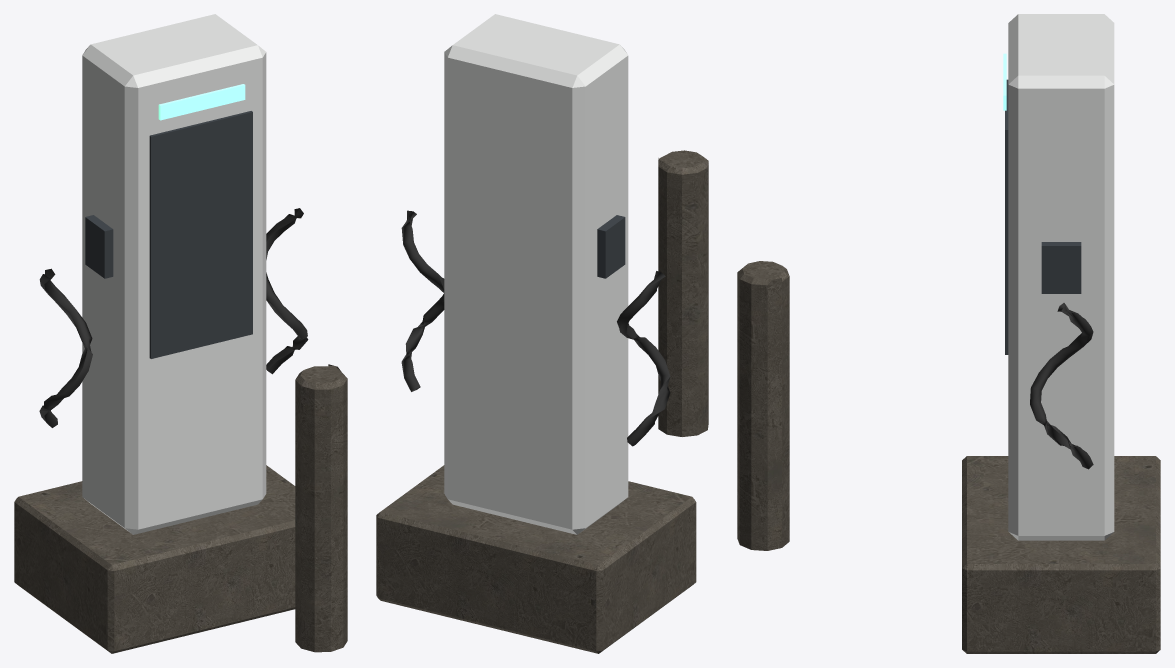
Rendered from charging-station.glb.
3 renders of one model, left to right at view 1: azimuth 30°, elevation 25°; view 2: azimuth 150°, elevation 25°; view 3: azimuth 270°, elevation 25°, orthographic.
Visible parts, largest first — view 1: charging-station; view 2: charging-station; view 3: charging-station.
Boxes of the visible parts, box(x1,y1,x2,y2) form: charging-station: box(14, 14, 347, 653); charging-station: box(376, 14, 708, 653); charging-station: box(737, 14, 1160, 653).
Size of the model in its own units: 0.9142 by 1.85 by 1.28.
5 materials, 1 textured.
